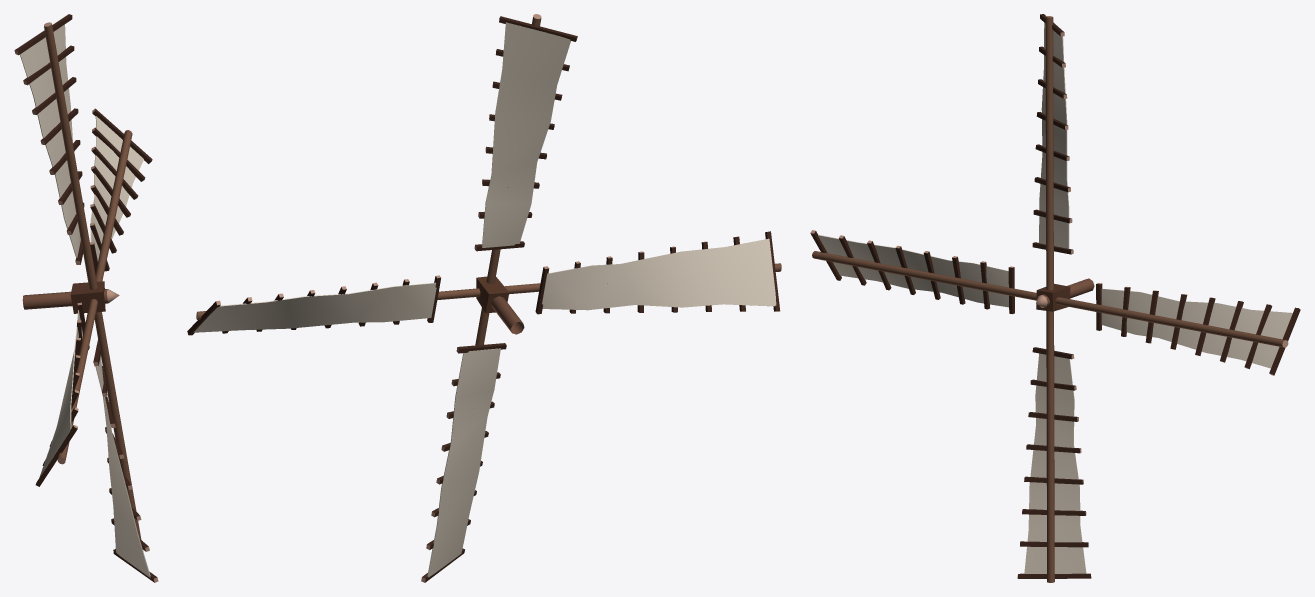
The model's file is windmil.obj.
The picture shows the model from 3 angles, left to right: view 1: azimuth 30°, elevation 25°; view 2: azimuth 150°, elevation 25°; view 3: azimuth 270°, elevation 25°; orthographic projection. The views are drawn at different scales.
Parts seen in each view (by area): view 1: Mill-wind-wheel; view 2: Mill-wind-wheel; view 3: Mill-wind-wheel.
Part boxes in pixels (<box>): Mill-wind-wheel: <box>14,14,158,582</box>; Mill-wind-wheel: <box>187,14,781,582</box>; Mill-wind-wheel: <box>810,14,1300,582</box>.
Bounding box in the file's own units: 8.04 × 12.42 × 10.54.
Materials: 1 (1 with a texture image).
